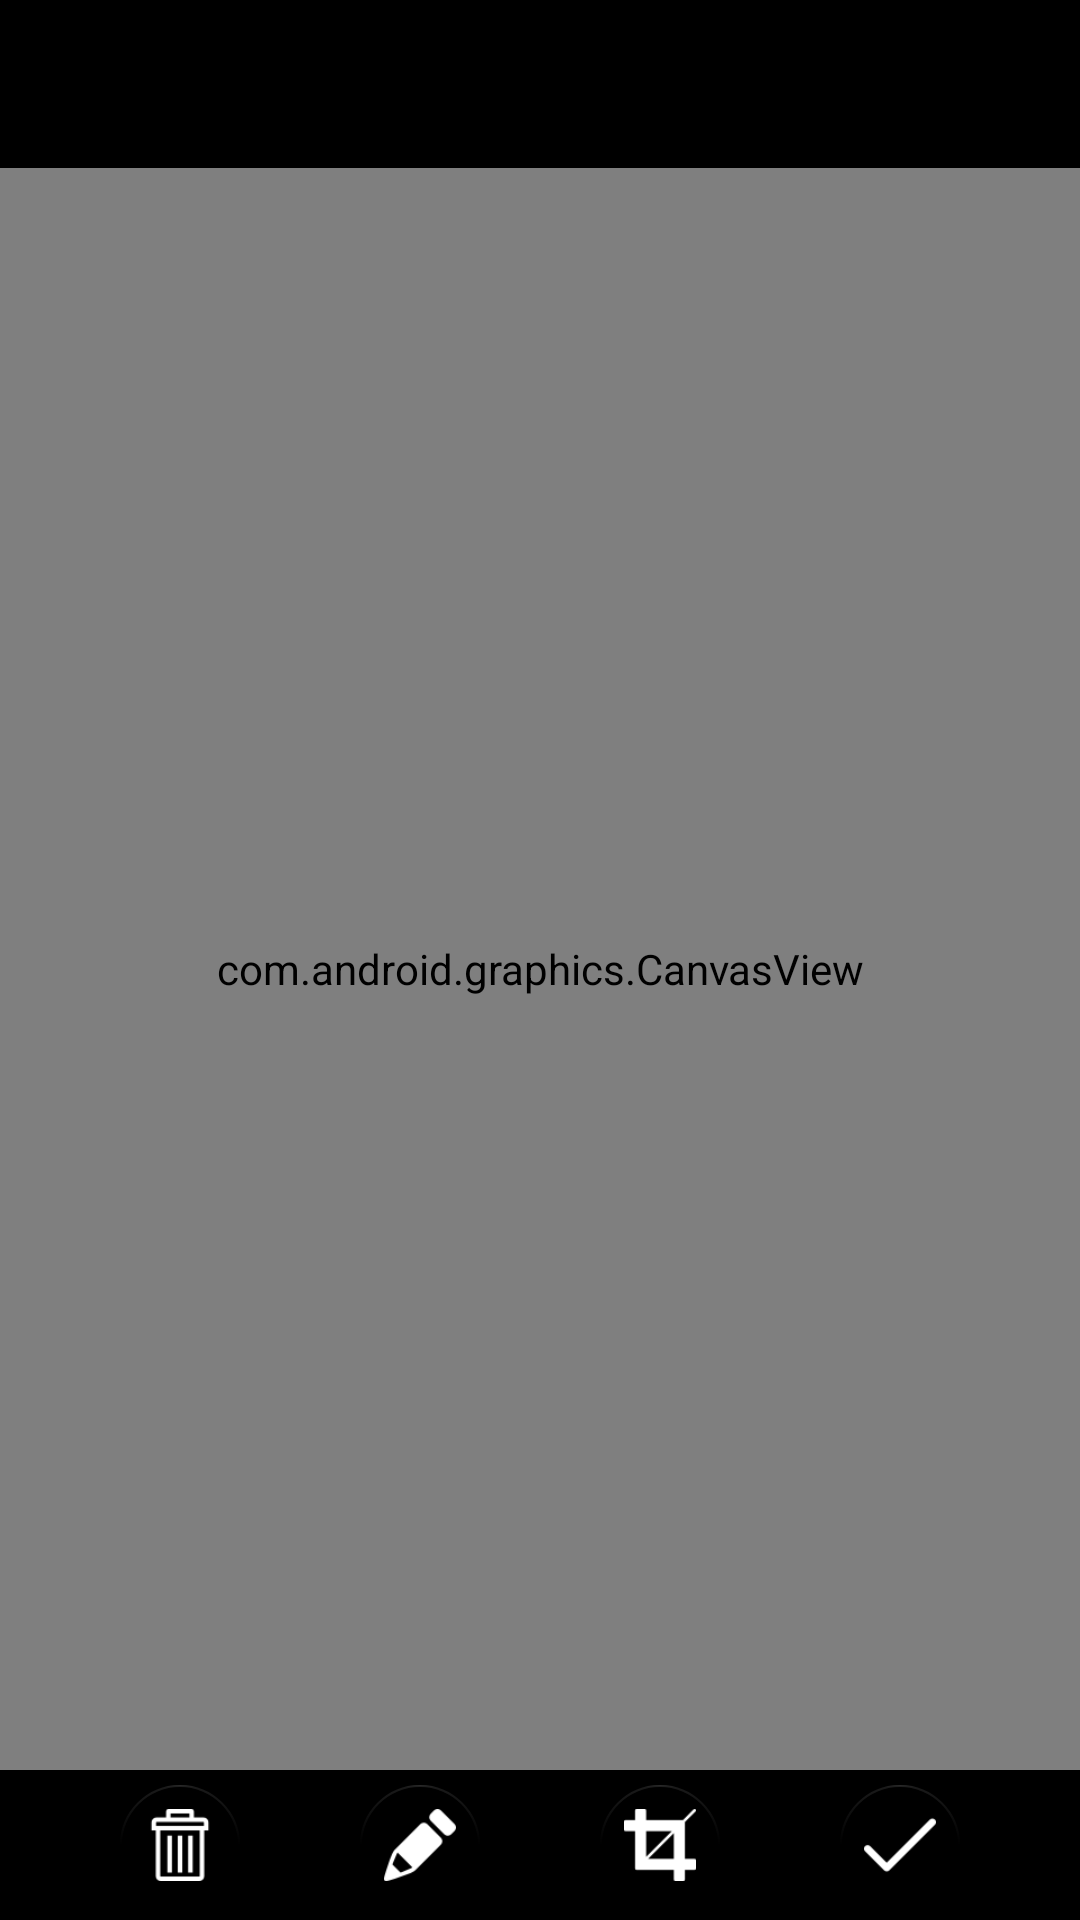

Named icons in this screenshot (1080px×1920px) and their centers, (x=x, y=y):
check: (x=900, y=1828)
crop: (x=660, y=1833)
delete: (x=180, y=1833)
drawing: (x=420, y=1833)
